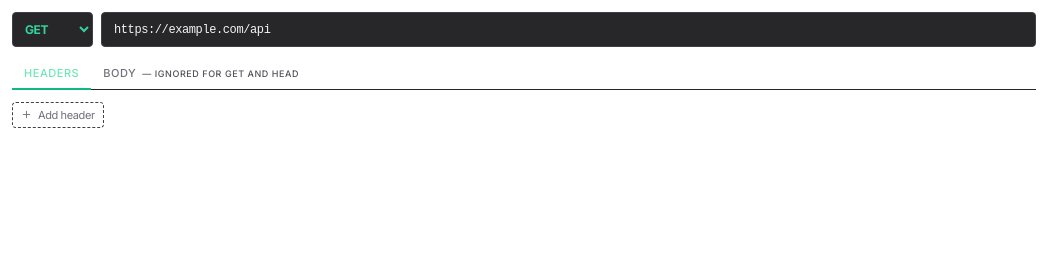
Scenario: RequestForm › disables the body textarea when method is GET
Click the button "Body— Ignored for GET and HEAD" at (201,74), box [91, 59, 311, 90]
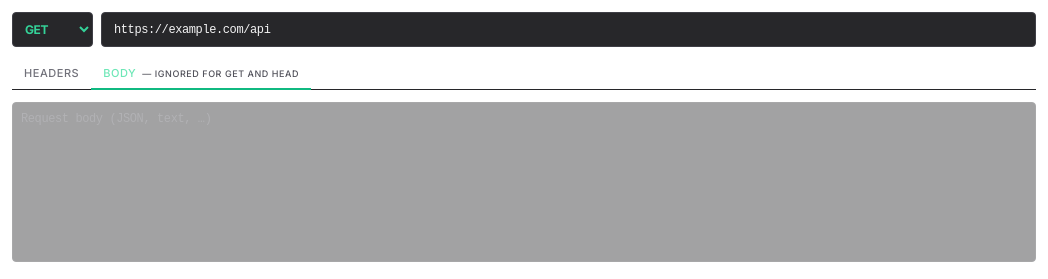
Now the text box with placeholder "Request body (JSON, text, …)" is disabled, box [12, 102, 1036, 262]
